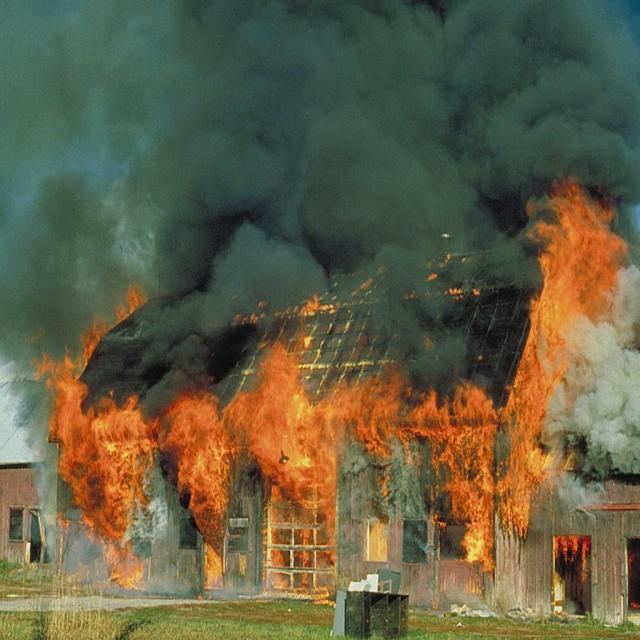Fire: (31, 173, 629, 608)
Smoke: (0, 0, 640, 476)
